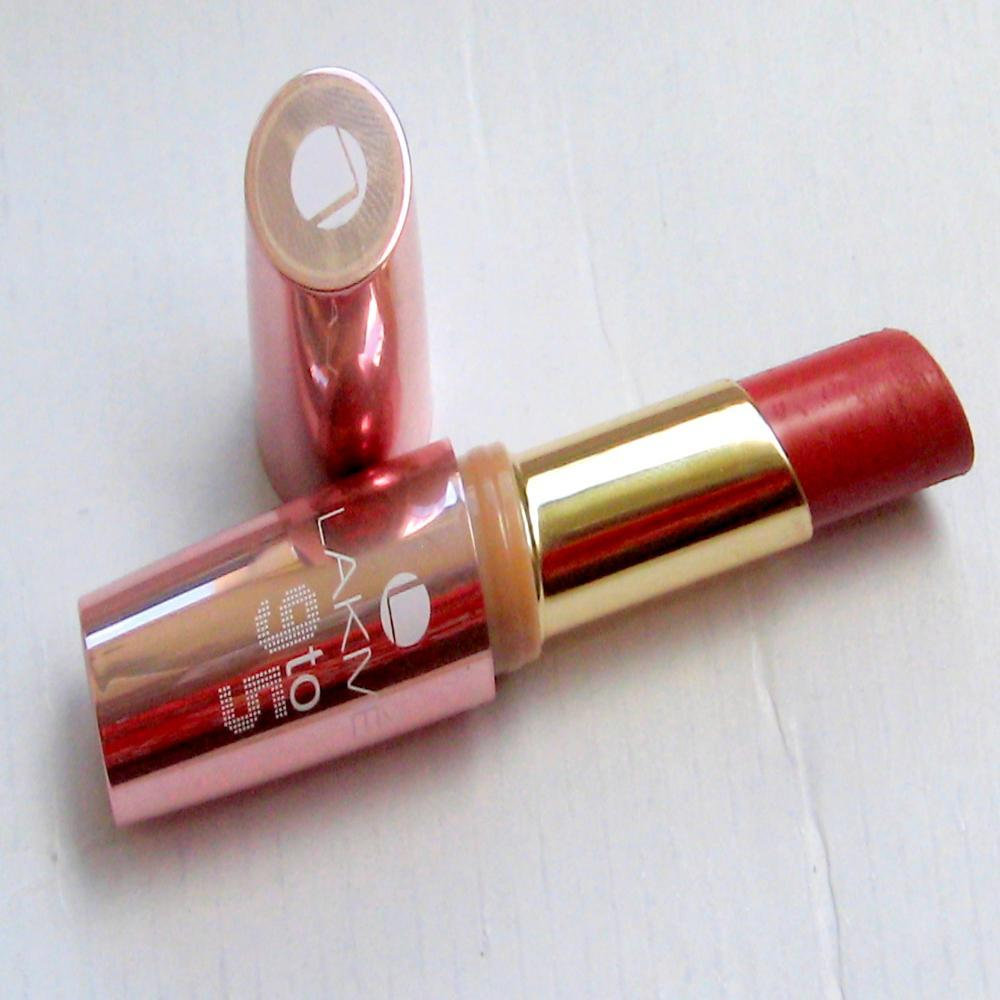lipstick: (21, 298, 1000, 809)
